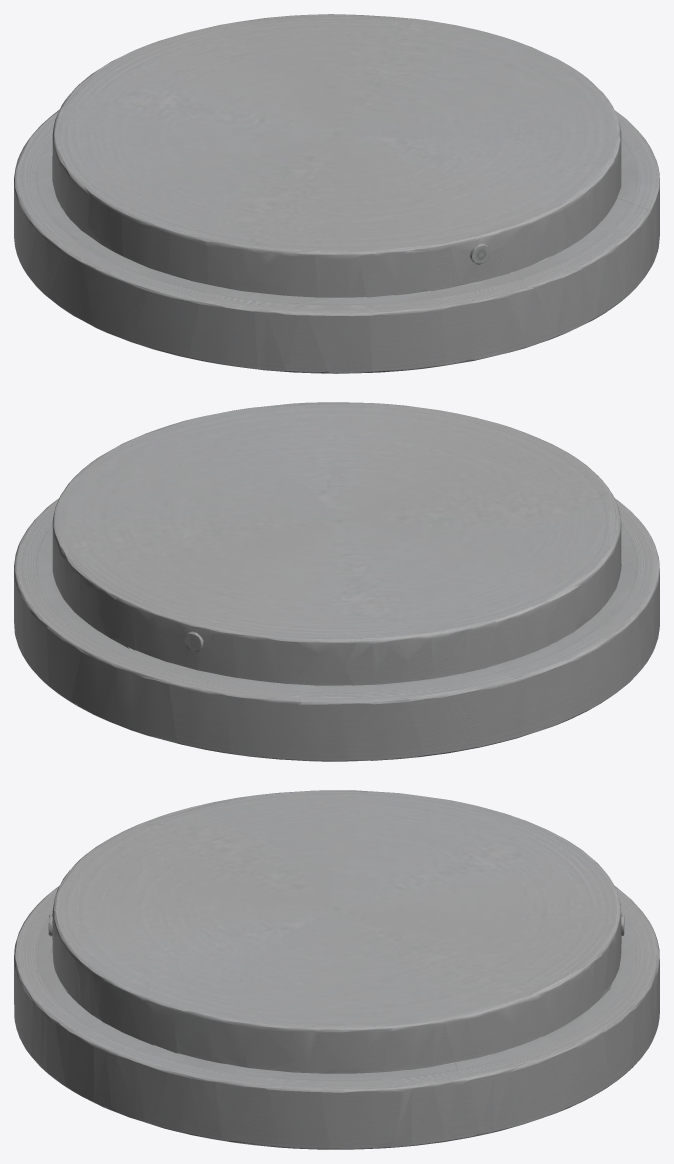
File: chiroq.glb
3 views of the same model, one above another, from view 1: azimuth 30°, elevation 25°; view 2: azimuth 150°, elevation 25°; view 3: azimuth 270°, elevation 25° (orthographic).
Visible parts, largest first — view 1: output_unwrapped; view 2: output_unwrapped; view 3: output_unwrapped.
Boxes of the visible parts, x1=… form: output_unwrapped: x1=14, y1=14, x2=659, y2=373; output_unwrapped: x1=14, y1=402, x2=659, y2=761; output_unwrapped: x1=14, y1=790, x2=659, y2=1149.
Size of the model in its own units: 1.2 by 0.216 by 1.2.
1 material, 1 textured.
